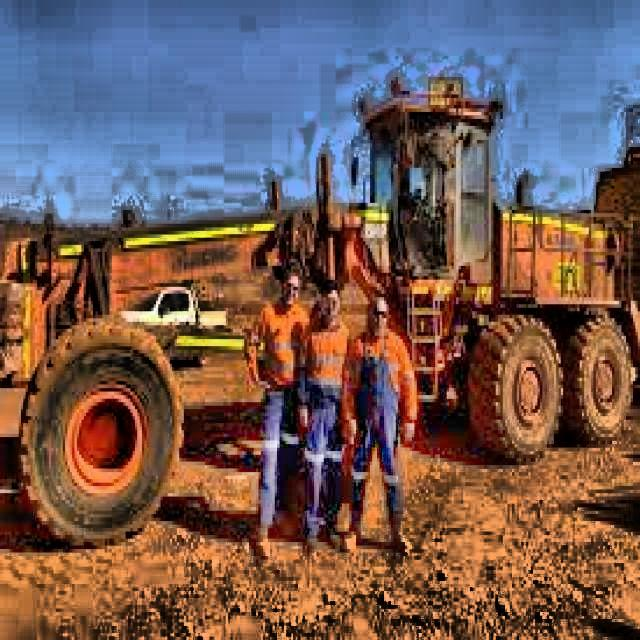bull_dozer/loader/grader: (0, 56, 640, 552)
person: (344, 294, 421, 557), (244, 264, 311, 564), (304, 274, 352, 562)
